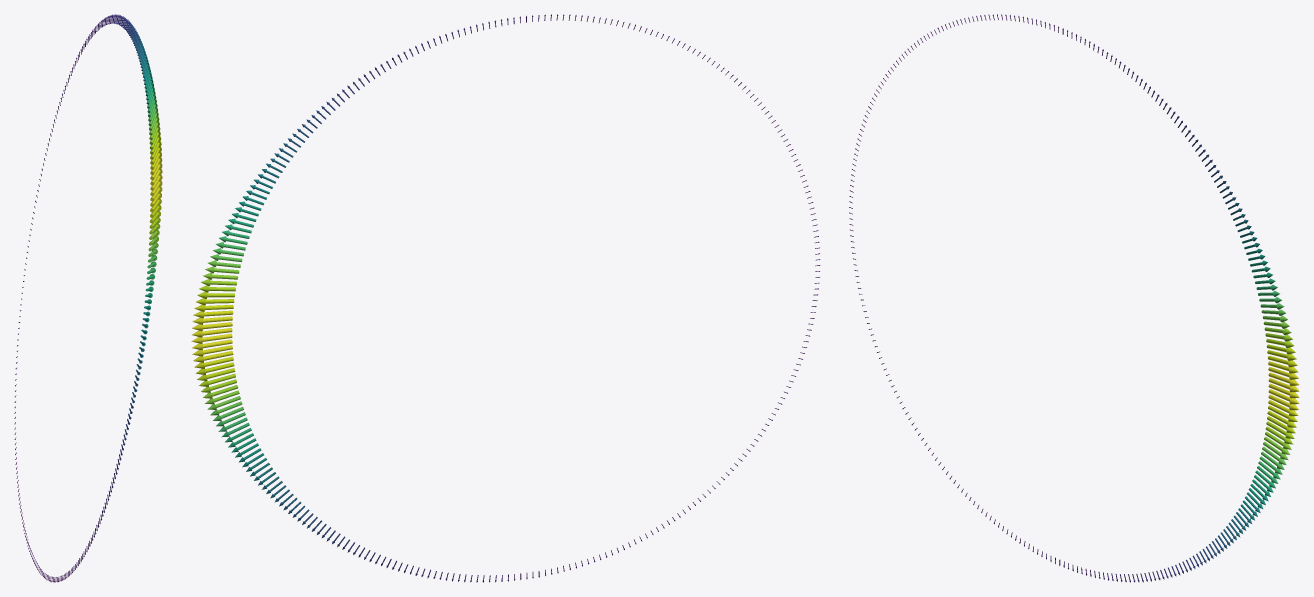
The model's file is coil_5_forces.gltf.
3 renders of one model, left to right at view 1: azimuth 30°, elevation 25°; view 2: azimuth 150°, elevation 25°; view 3: azimuth 270°, elevation 25°, orthographic. The views are drawn at different scales.
Visible parts, largest first — view 1: Renderer Node; view 2: Renderer Node; view 3: Renderer Node.
Boxes of the visible parts, x1=… form: Renderer Node: x1=14, y1=14, x2=162, y2=582; Renderer Node: x1=191, y1=14, x2=820, y2=582; Renderer Node: x1=849, y1=14, x2=1299, y2=582.
Size of the model in its own units: 0.4506 by 0.6151 by 0.4649.
1 material, 1 textured.
